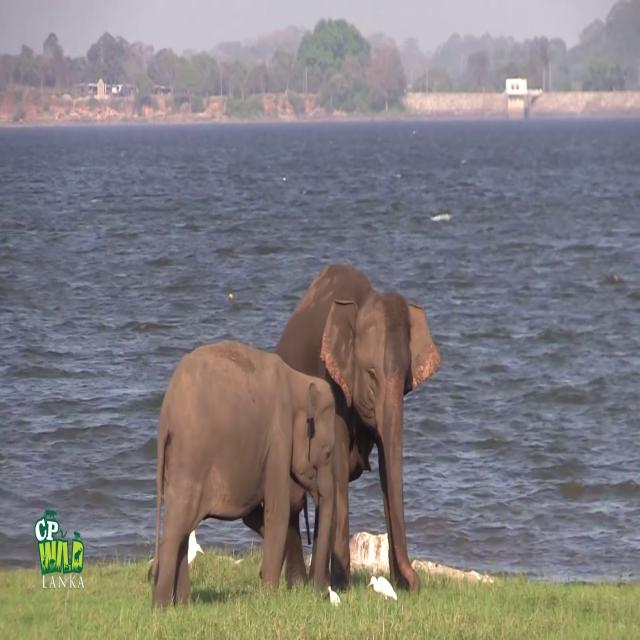Elephant: (271, 261, 441, 595), (148, 338, 336, 611)
